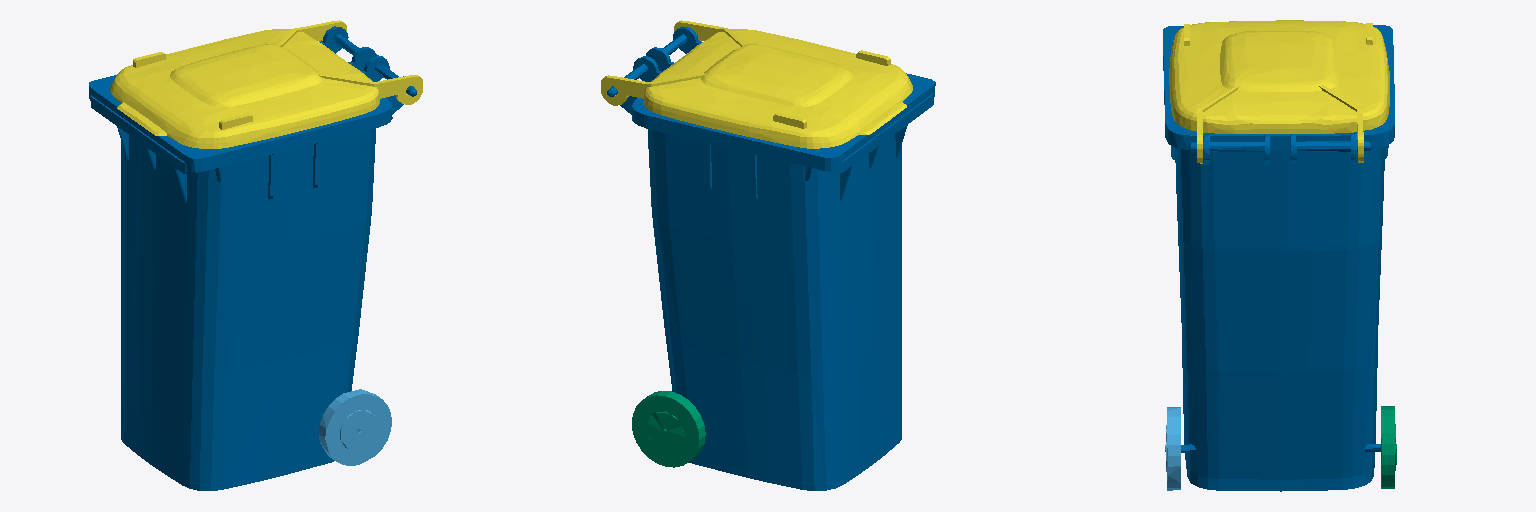
The robot description file, URDF, robot "partnet_be98fd37940b298f30434f41561ebdcf-2":
<?xml version="1.0" ?>
<robot name="partnet_be98fd37940b298f30434f41561ebdcf-2">
	<link name="base"/>
	<link name="link_0">
		<visual name="wheel-1">
			<origin xyz="0.003139350590944839 0.7139035118353272 0.27252475216497385"/>
			<geometry>
				<mesh filename="textured_objs/original-10.obj"/>
			</geometry>
		</visual>
		<collision>
			<origin xyz="0.003139350590944839 0.7139035118353272 0.27252475216497385"/>
			<geometry>
				<mesh filename="textured_objs/original-10.obj"/>
			</geometry>
		</collision>
	</link>
	<joint name="joint_0" type="continuous">
		<origin xyz="-0.003139350590944839 -0.7139035118353272 -0.27252475216497385"/>
		<axis xyz="-0.9999337337603303 2.5419304194373795e-06 0.011512084158125949"/>
		<child link="link_0"/>
		<parent link="link_3"/>
	</joint>
	<link name="link_1">
		<visual name="wheel-2">
			<origin xyz="0.003127657457991523 0.7138983637973899 0.27252334378601667"/>
			<geometry>
				<mesh filename="textured_objs/original-11.obj"/>
			</geometry>
		</visual>
		<collision>
			<origin xyz="0.003127657457991523 0.7138983637973899 0.27252334378601667"/>
			<geometry>
				<mesh filename="textured_objs/original-11.obj"/>
			</geometry>
		</collision>
	</link>
	<joint name="joint_1" type="continuous">
		<origin xyz="-0.003127657457991523 -0.7138983637973899 -0.27252334378601667"/>
		<axis xyz="-0.9999336881778376 -1.532120139480752e-05 0.01151603283809203"/>
		<child link="link_1"/>
		<parent link="link_3"/>
	</joint>
	<link name="link_2">
		<visual name="lid-3">
			<origin xyz="0.3436974783332585 -0.6538255892391317 0.5726579543311202"/>
			<geometry>
				<mesh filename="textured_objs/original-1.obj"/>
			</geometry>
		</visual>
		<visual name="lid-3">
			<origin xyz="0.3436974783332585 -0.6538255892391317 0.5726579543311202"/>
			<geometry>
				<mesh filename="textured_objs/original-2.obj"/>
			</geometry>
		</visual>
		<visual name="lid-3">
			<origin xyz="0.3436974783332585 -0.6538255892391317 0.5726579543311202"/>
			<geometry>
				<mesh filename="textured_objs/original-3.obj"/>
			</geometry>
		</visual>
		<collision>
			<origin xyz="0.3436974783332585 -0.6538255892391317 0.5726579543311202"/>
			<geometry>
				<mesh filename="textured_objs/original-1.obj"/>
			</geometry>
		</collision>
		<collision>
			<origin xyz="0.3436974783332585 -0.6538255892391317 0.5726579543311202"/>
			<geometry>
				<mesh filename="textured_objs/original-2.obj"/>
			</geometry>
		</collision>
		<collision>
			<origin xyz="0.3436974783332585 -0.6538255892391317 0.5726579543311202"/>
			<geometry>
				<mesh filename="textured_objs/original-3.obj"/>
			</geometry>
		</collision>
	</link>
	<joint name="joint_2" type="revolute">
		<origin xyz="-0.3436974783332585 0.6538255892391317 -0.5726579543311202"/>
		<axis xyz="-1 0 0"/>
		<child link="link_2"/>
		<parent link="link_3"/>
		<limit lower="-0.0" upper="4.71238898038469"/>
	</joint>
	<link name="link_3">
		<visual name="base_body-4">
			<origin xyz="0 0 0"/>
			<geometry>
				<mesh filename="textured_objs/original-4.obj"/>
			</geometry>
		</visual>
		<visual name="base_body-4">
			<origin xyz="0 0 0"/>
			<geometry>
				<mesh filename="textured_objs/original-8.obj"/>
			</geometry>
		</visual>
		<visual name="base_body-4">
			<origin xyz="0 0 0"/>
			<geometry>
				<mesh filename="textured_objs/original-13.obj"/>
			</geometry>
		</visual>
		<visual name="base_body-4">
			<origin xyz="0 0 0"/>
			<geometry>
				<mesh filename="textured_objs/original-9.obj"/>
			</geometry>
		</visual>
		<visual name="base_body-4">
			<origin xyz="0 0 0"/>
			<geometry>
				<mesh filename="textured_objs/original-5.obj"/>
			</geometry>
		</visual>
		<visual name="base_body-4">
			<origin xyz="0 0 0"/>
			<geometry>
				<mesh filename="textured_objs/original-6.obj"/>
			</geometry>
		</visual>
		<visual name="base_body-4">
			<origin xyz="0 0 0"/>
			<geometry>
				<mesh filename="textured_objs/original-12.obj"/>
			</geometry>
		</visual>
		<visual name="base_body-4">
			<origin xyz="0 0 0"/>
			<geometry>
				<mesh filename="textured_objs/original-7.obj"/>
			</geometry>
		</visual>
		<visual name="base_body-4">
			<origin xyz="0 0 0"/>
			<geometry>
				<mesh filename="textured_objs/original-14.obj"/>
			</geometry>
		</visual>
		<!-- <collision>
			<origin xyz="0 0 0"/>
			<geometry>
				<mesh filename="textured_objs/original-4.obj"/>
			</geometry>
		</collision>-->
		<collision>
			<origin xyz="0 0 0"/>
			<geometry>
				<mesh filename="textured_objs/original-8.obj"/>
			</geometry>
		</collision> 
		<collision>
			<origin xyz="0 0 0"/>
			<geometry>
				<mesh filename="textured_objs/original-13.obj"/>
			</geometry>
		</collision>
		<collision>
			<origin xyz="0 0 0"/>
			<geometry>
				<mesh filename="textured_objs/original-9.obj"/>
			</geometry>
		</collision>
		<collision>
			<origin xyz="0 0 0"/>
			<geometry>
				<mesh filename="textured_objs/original-5.obj"/>
			</geometry>
		</collision>
		<collision>
			<origin xyz="0 0 0"/>
			<geometry>
				<mesh filename="textured_objs/original-6.obj"/>
			</geometry>
		</collision>
		<collision>
			<origin xyz="0 0 0"/>
			<geometry>
				<mesh filename="textured_objs/original-12.obj"/>
			</geometry>
		</collision>
		<collision>
			<origin xyz="0 0 0"/>
			<geometry>
				<mesh filename="textured_objs/original-7.obj"/>
			</geometry>
		</collision>
		<collision>
			<origin xyz="0 0 0"/>
			<geometry>
				<mesh filename="textured_objs/original-14.obj"/>
			</geometry>
		</collision>
	</link>
	<joint name="joint_3" type="fixed">
		<origin rpy="1.570796326794897 0 -1.570796326794897" xyz="0 0 0"/>
		<child link="link_3"/>
		<parent link="base"/>
	</joint>
</robot>

--- Render facts (derived) ---
Views: 3 orthographic renders of the robot side by side, from view 1: azimuth 30°, elevation 25°; view 2: azimuth 150°, elevation 25°; view 3: azimuth 270°, elevation 25°.
Model partnet_be98fd37940b298f30434f41561ebdcf-2 with 5 links and 4 joints (1 revolute, 2 continuous, 1 fixed), rooted at base, posed every joint at zero.
Visible links, largest first — view 1: link_3, link_2, link_0; view 2: link_3, link_2, link_1; view 3: link_3, link_2, link_1, link_0.
Boxes of the visible links, x1=… form: link_3: x1=89, y1=26, x2=416, y2=490; link_2: x1=110, y1=20, x2=422, y2=148; link_0: x1=319, y1=389, x2=391, y2=465; link_3: x1=607, y1=26, x2=935, y2=490; link_2: x1=601, y1=20, x2=912, y2=148; link_1: x1=632, y1=391, x2=705, y2=467; link_3: x1=1163, y1=25, x2=1394, y2=491; link_2: x1=1169, y1=20, x2=1389, y2=163; link_1: x1=1381, y1=406, x2=1396, y2=488; link_0: x1=1165, y1=407, x2=1180, y2=490.
Size in the robot's own frame: 1.15 by 0.8646 by 1.63 metres.
Meshes: 14 distinct files referenced, 14 mesh visuals loaded (14 OBJ).
